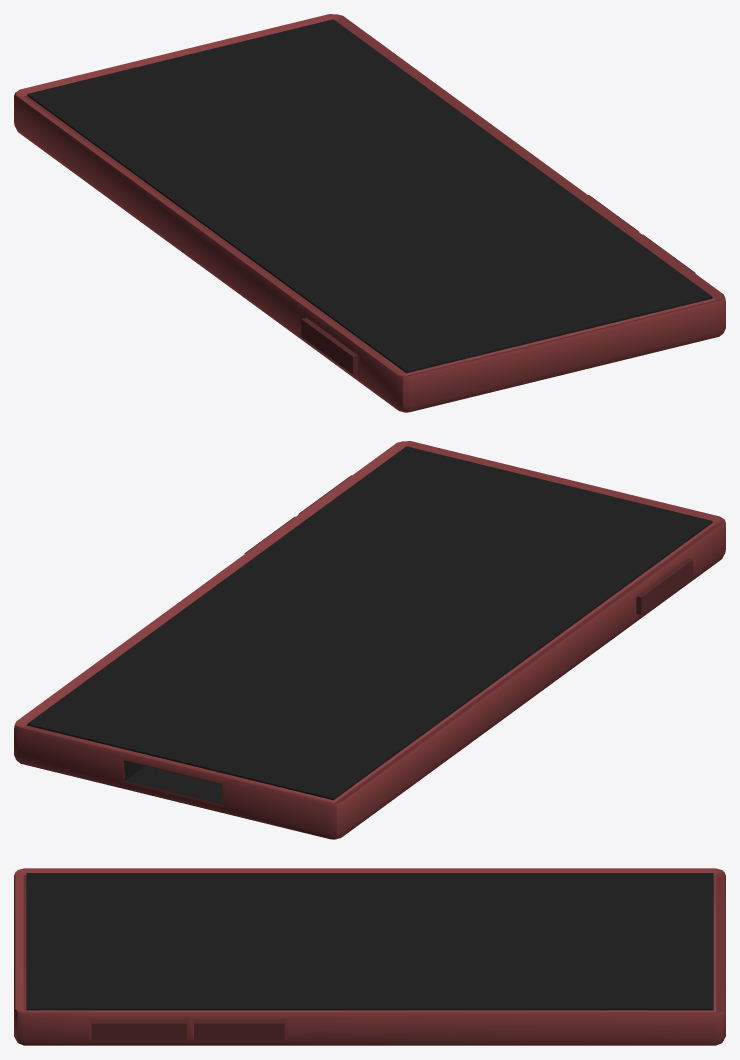
Rendered from Phone.glb.
3 views of the same model, one above another, from view 1: azimuth 30°, elevation 25°; view 2: azimuth 150°, elevation 25°; view 3: azimuth 270°, elevation 25° (orthographic). The views are drawn at different scales.
Visible parts, largest first — view 1: Phone; view 2: Phone; view 3: Phone.
Boxes of the visible parts, x1,y1,x2,y2 form: Phone: [14, 14, 725, 412]; Phone: [14, 441, 725, 839]; Phone: [14, 868, 725, 1045].
Bounding box in the file's own units: 0.0725 × 0.00824 × 0.1441.
1 material, 1 textured.
